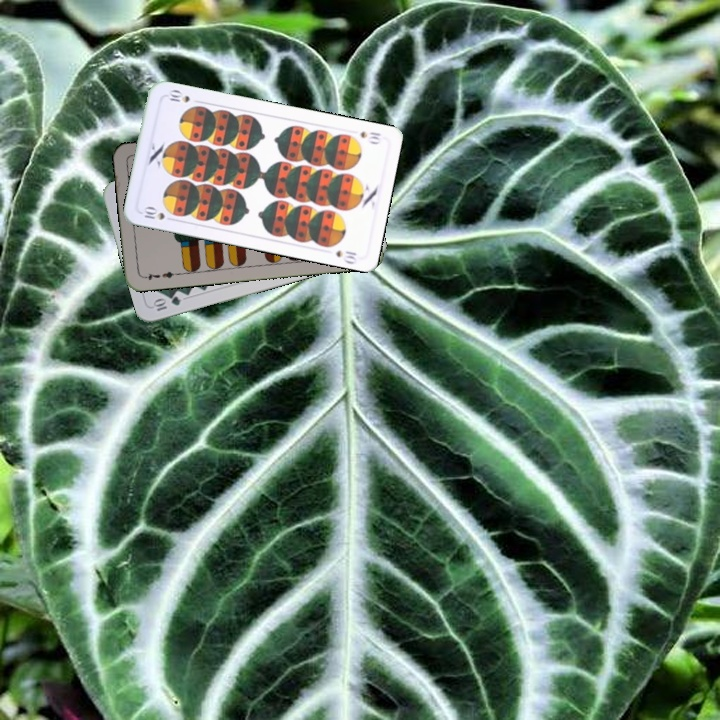E7: (139, 268, 180, 283)
G10: (149, 292, 183, 314)
S10: (137, 203, 178, 224), (357, 127, 383, 143)
